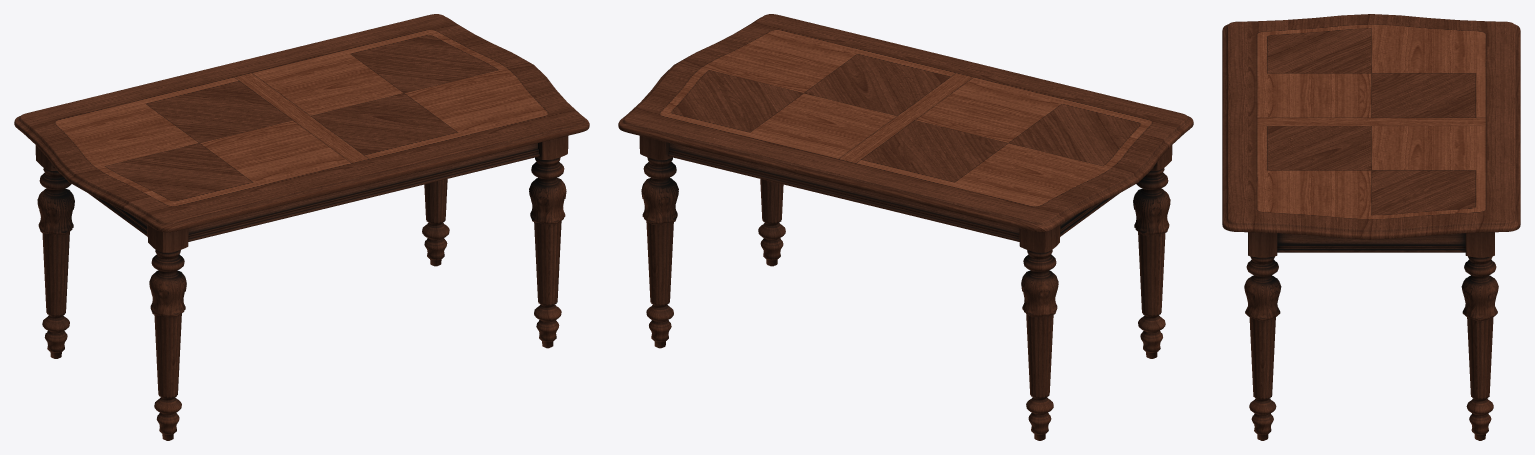
The model's file is zhuozi_01.fbx.
3 views of the same model, side by side, from view 1: azimuth 30°, elevation 25°; view 2: azimuth 150°, elevation 25°; view 3: azimuth 270°, elevation 25° (orthographic). The views are drawn at different scales.
Parts seen in each view (by area): view 1: zhuozi_zhuomian001, zhuozi_zhuotui001; view 2: zhuozi_zhuomian001, zhuozi_zhuotui001; view 3: zhuozi_zhuomian001, zhuozi_zhuotui001.
Part boxes in pixels (bbox=[...]): zhuozi_zhuomian001: bbox=[14, 14, 589, 232]; zhuozi_zhuotui001: bbox=[35, 136, 568, 440]; zhuozi_zhuomian001: bbox=[618, 14, 1193, 232]; zhuozi_zhuotui001: bbox=[639, 136, 1172, 440]; zhuozi_zhuomian001: bbox=[1222, 14, 1520, 239]; zhuozi_zhuotui001: bbox=[1244, 232, 1498, 440].
Size of the model in its own units: 1601 by 771 by 915.
